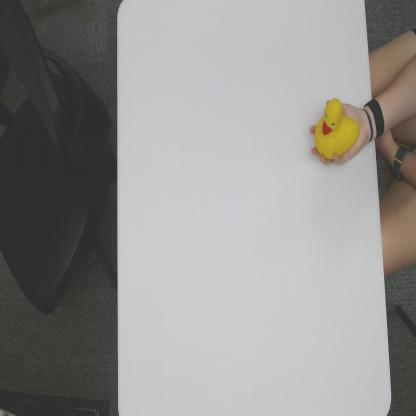Duck: (315, 95, 360, 160)
Hand: (310, 98, 370, 167)
